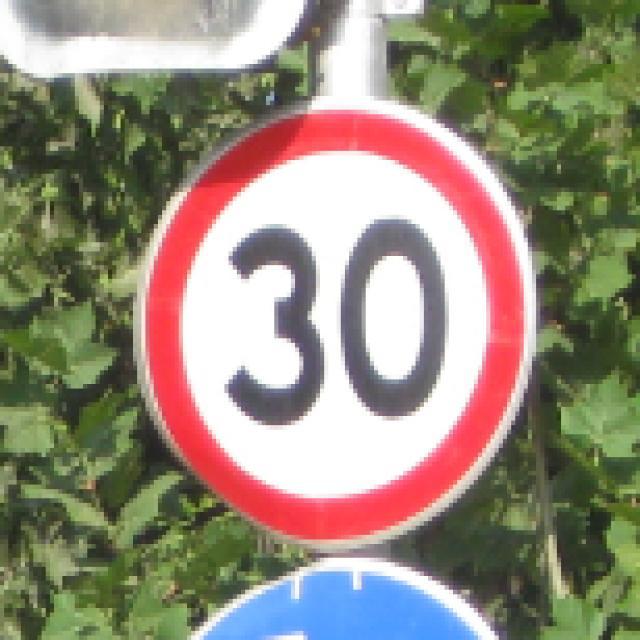Speed: (128, 92, 538, 547)
